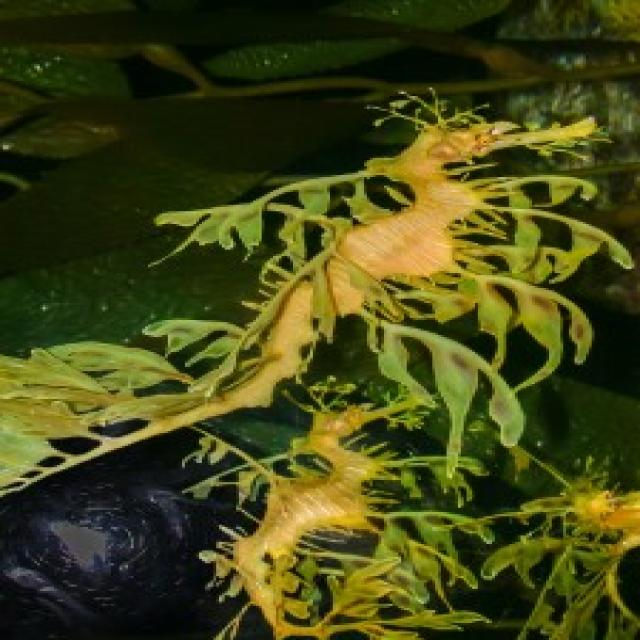Seahorse: (152, 51, 620, 368), (217, 390, 422, 640)
